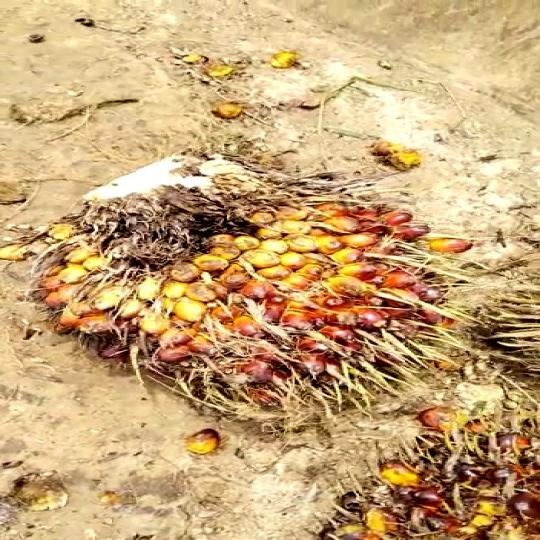masak: (35, 166, 485, 422)
